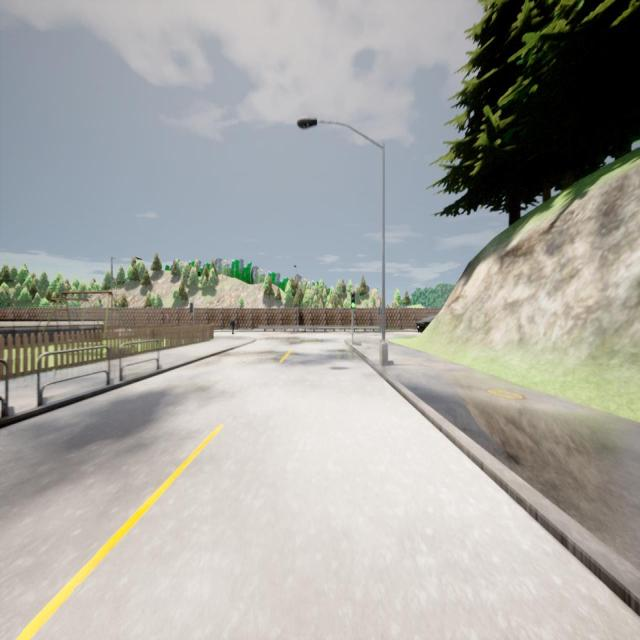Pedestrian: (230, 317, 236, 335)
Vehicle: (416, 316, 435, 332)
traffic_light: (351, 292, 355, 308), (190, 302, 193, 312)
